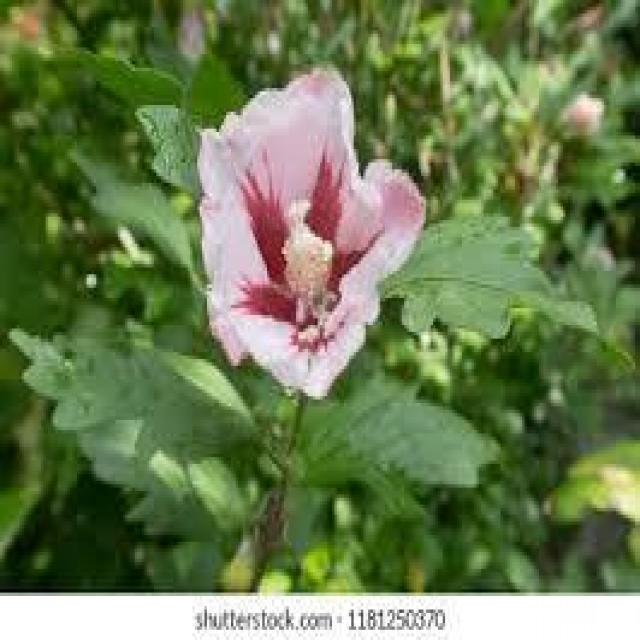organic waste: (196, 64, 432, 413)
